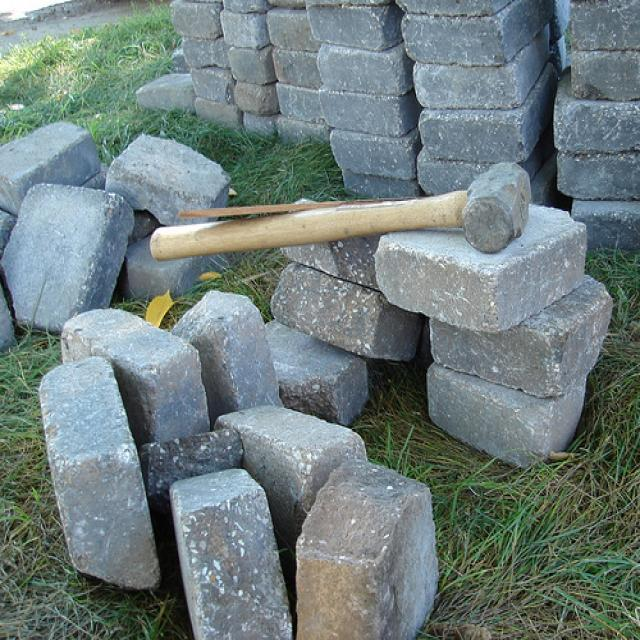hammer: (140, 159, 545, 268)
